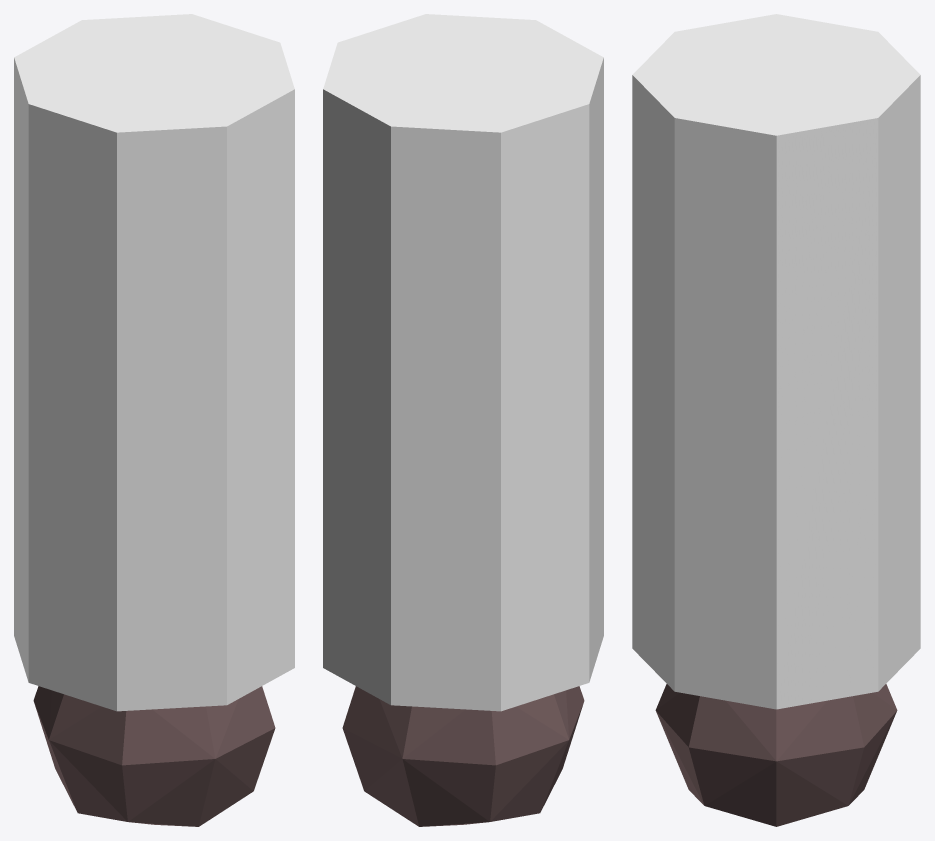
The model's file is Hand.obj.
3 renders of one model, left to right at view 1: azimuth 30°, elevation 25°; view 2: azimuth 150°, elevation 25°; view 3: azimuth 270°, elevation 25°, orthographic.
Parts seen in each view (by area): view 1: Cube; view 2: Cube; view 3: Cube.
Boxes of the visible parts, <box> form: Cube: <box>14,14,294,826</box>; Cube: <box>323,14,603,826</box>; Cube: <box>632,14,920,826</box>.
Bounding box in the file's own units: 2 × 5.71 × 2.
